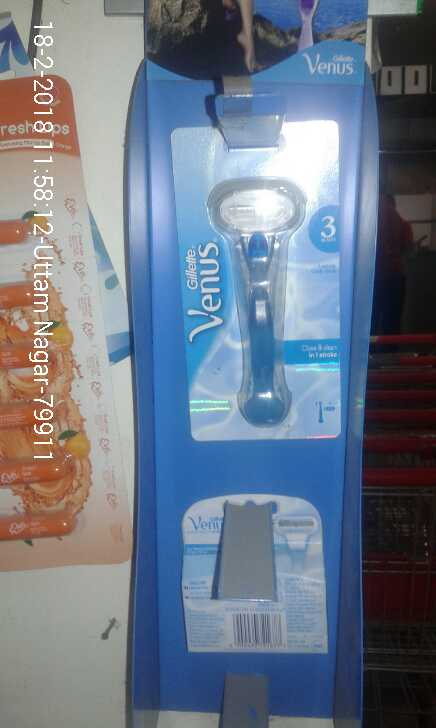venus: (171, 118, 349, 446)
